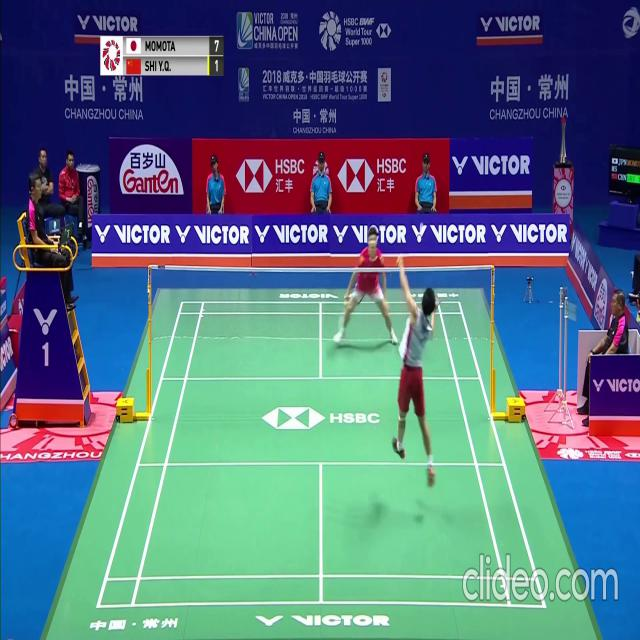Shuttlecock: (419, 226, 424, 234)
